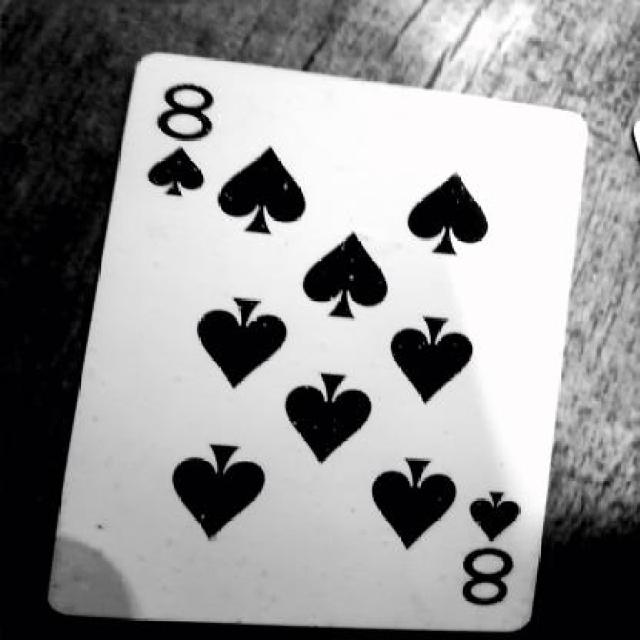8S: (135, 70, 247, 212), (463, 474, 534, 628)
